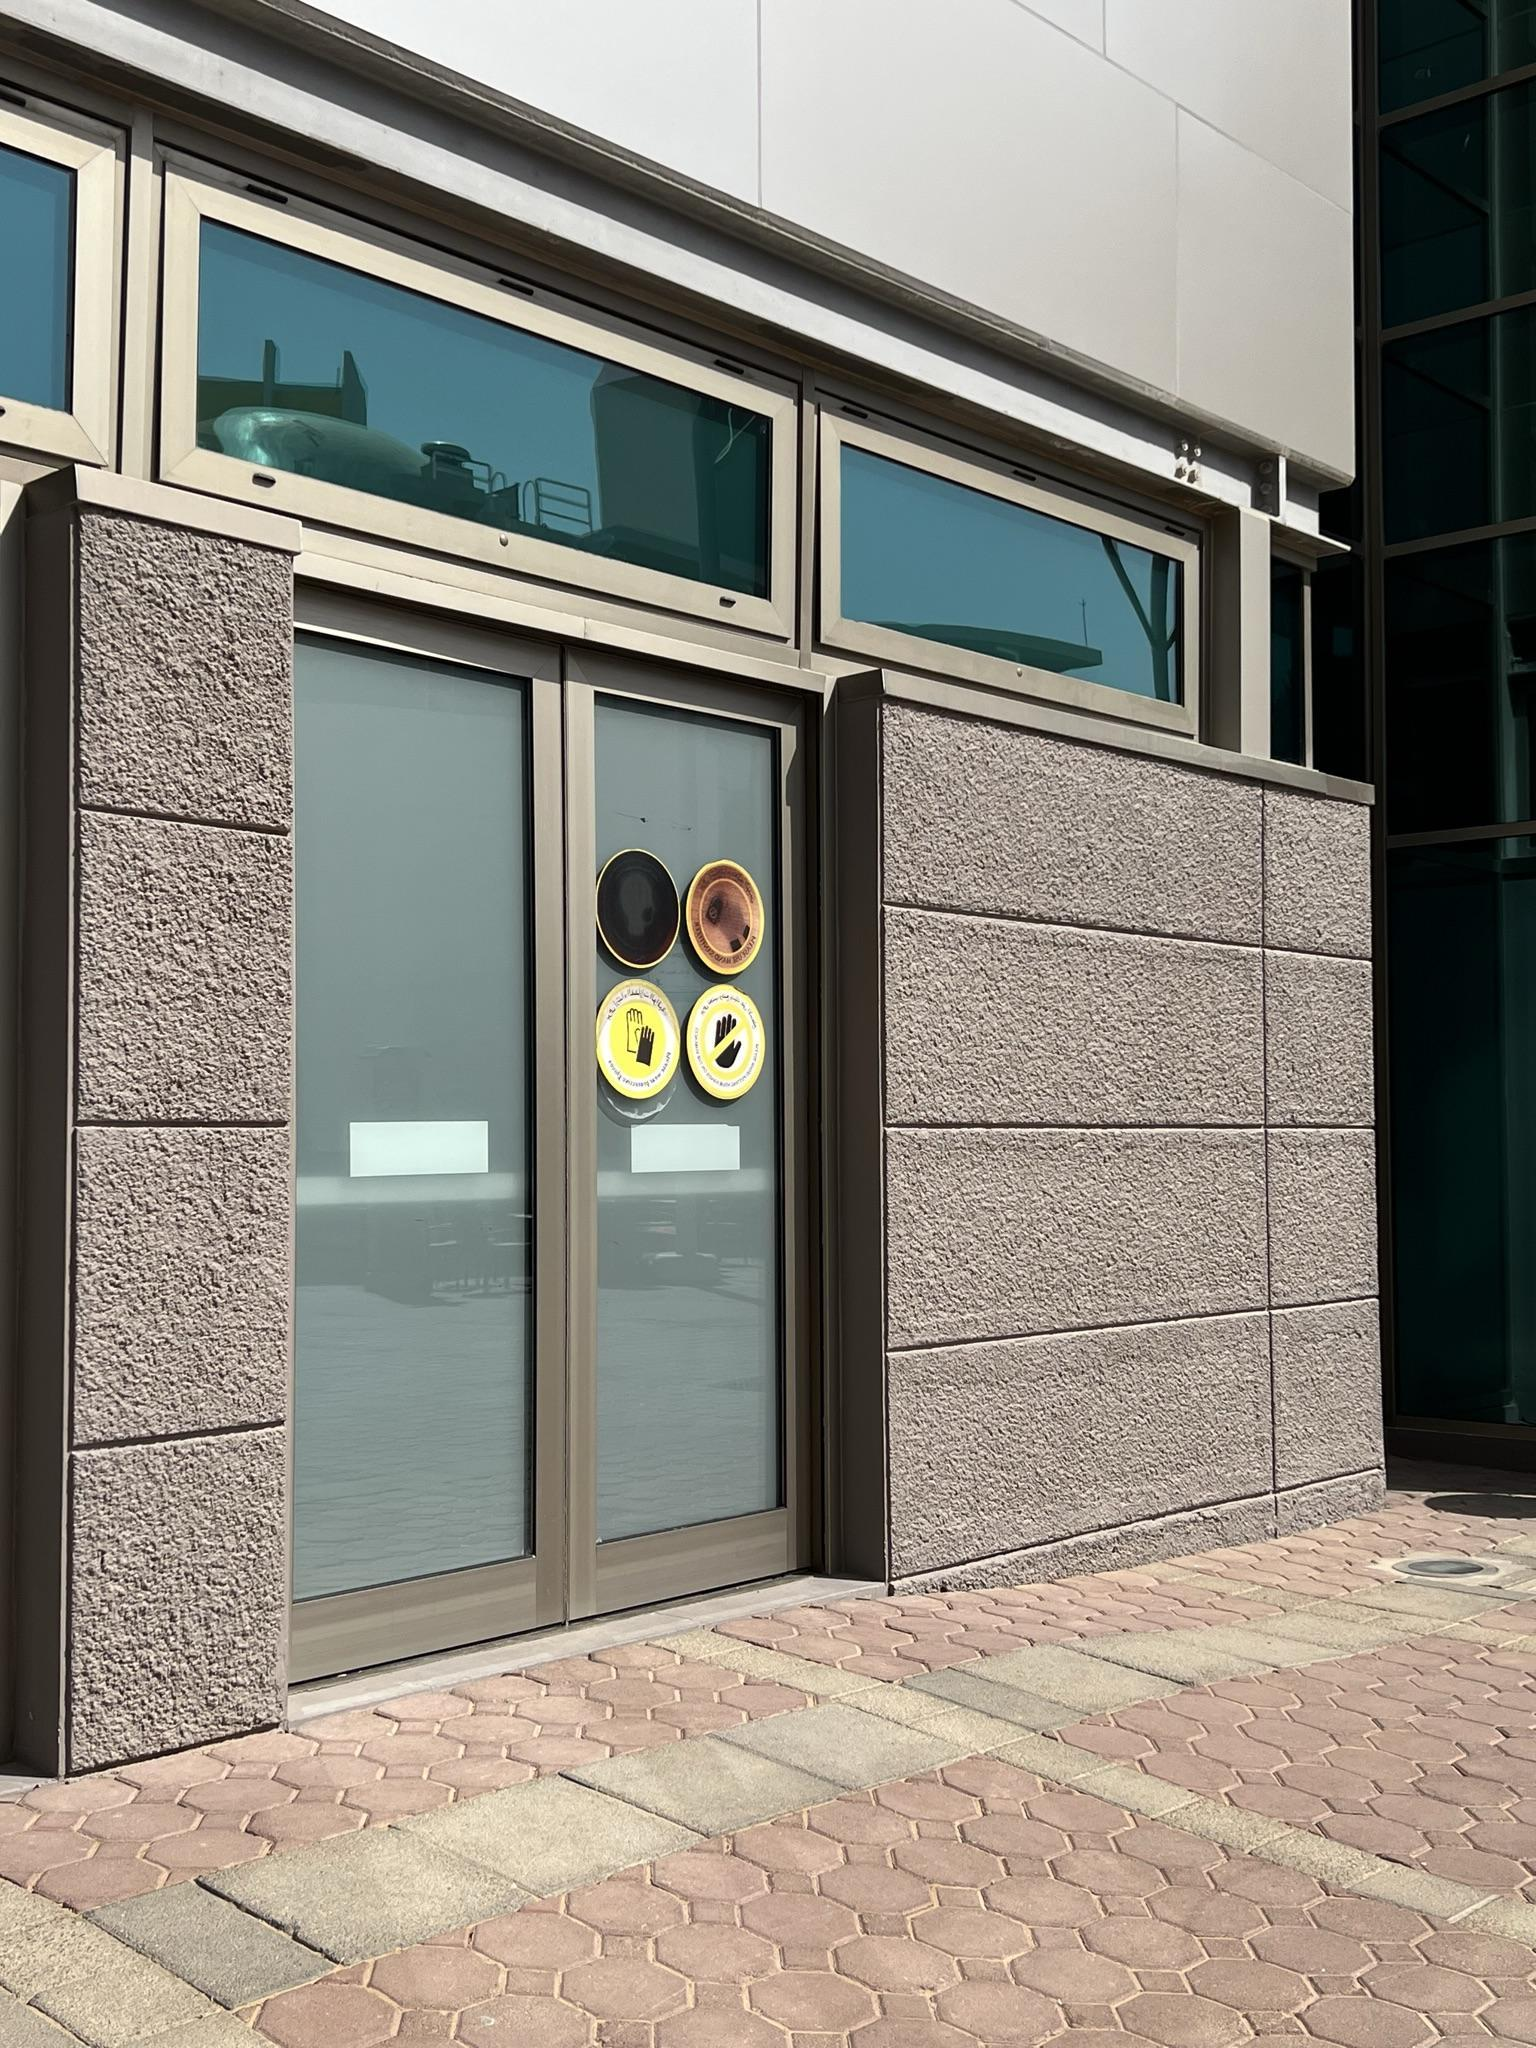door: (266, 606, 544, 1693), (566, 681, 799, 1587)
